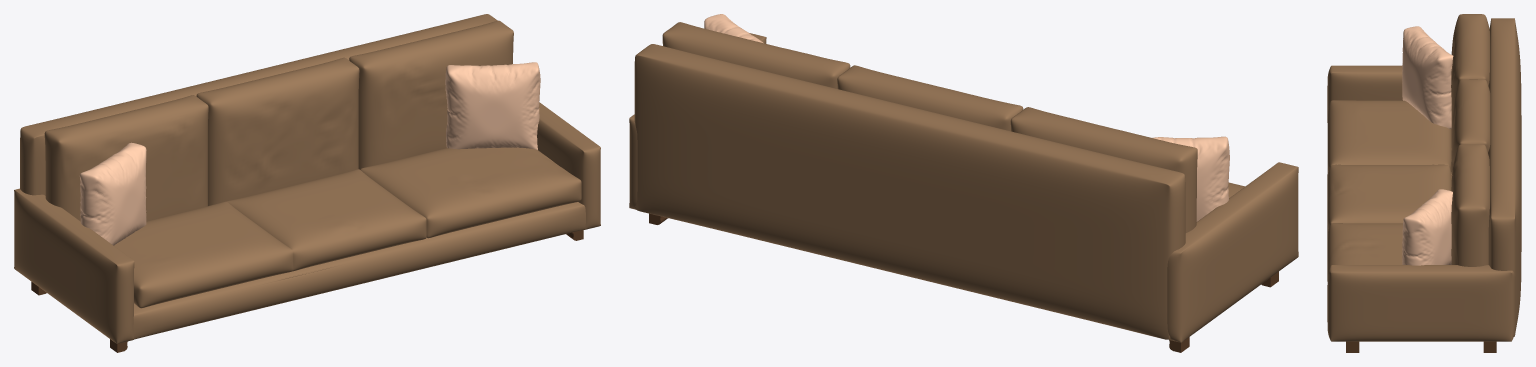
Rendered from canapea.fbx.
3 renders of one model, left to right at view 1: azimuth 30°, elevation 25°; view 2: azimuth 150°, elevation 25°; view 3: azimuth 270°, elevation 25°, orthographic. The views are drawn at different scales.
Parts seen in each view (by area): view 1: Cube.006, Cube.002, Cube, Cube.010, Cube.007, Cube.008, Cube.004, Cube.003, Cube.005, Cube.001; view 2: Cube.001, Cube.002, Cube.008, Cube.007, Cube.006, Cube.010, Cube.009; view 3: Cube.002, Cube.001, Cube.003, Cube.010, Cube.005, Cube.007, Cube.004, Cube.008, Cube.006, Cube.009.
Boxes of the visible parts, box(x1,y1,x2,y2) form: Cube.006: box(196, 57, 359, 205); Cube.002: box(14, 102, 600, 343); Cube: box(133, 202, 585, 339); Cube.010: box(79, 62, 540, 245); Cube.007: box(349, 20, 513, 169); Cube.008: box(44, 95, 208, 221); Cube.004: box(360, 147, 581, 238); Cube.003: box(114, 201, 293, 308); Cube.005: box(226, 169, 426, 271); Cube.001: box(20, 14, 497, 195); Cube.001: box(634, 44, 1185, 339); Cube.002: box(629, 33, 1298, 342); Cube.008: box(1010, 107, 1197, 232); Cube.007: box(662, 22, 850, 88); Cube.006: box(837, 65, 1023, 131); Cube.010: box(704, 14, 1229, 221); Cube.009: box(649, 213, 1278, 352); Cube.002: box(1327, 65, 1515, 341); Cube.001: box(1488, 18, 1521, 336); Cube.003: box(1327, 100, 1451, 173); Cube.010: box(1402, 26, 1453, 265); Cube.005: box(1327, 164, 1451, 230); Cube.007: box(1451, 144, 1489, 266); Cube.004: box(1327, 223, 1402, 275); Cube.008: box(1451, 14, 1489, 147); Cube.006: box(1451, 79, 1490, 174); Cube.009: box(1346, 341, 1496, 352).
Size of the model in its own units: 387 by 124 by 151.
